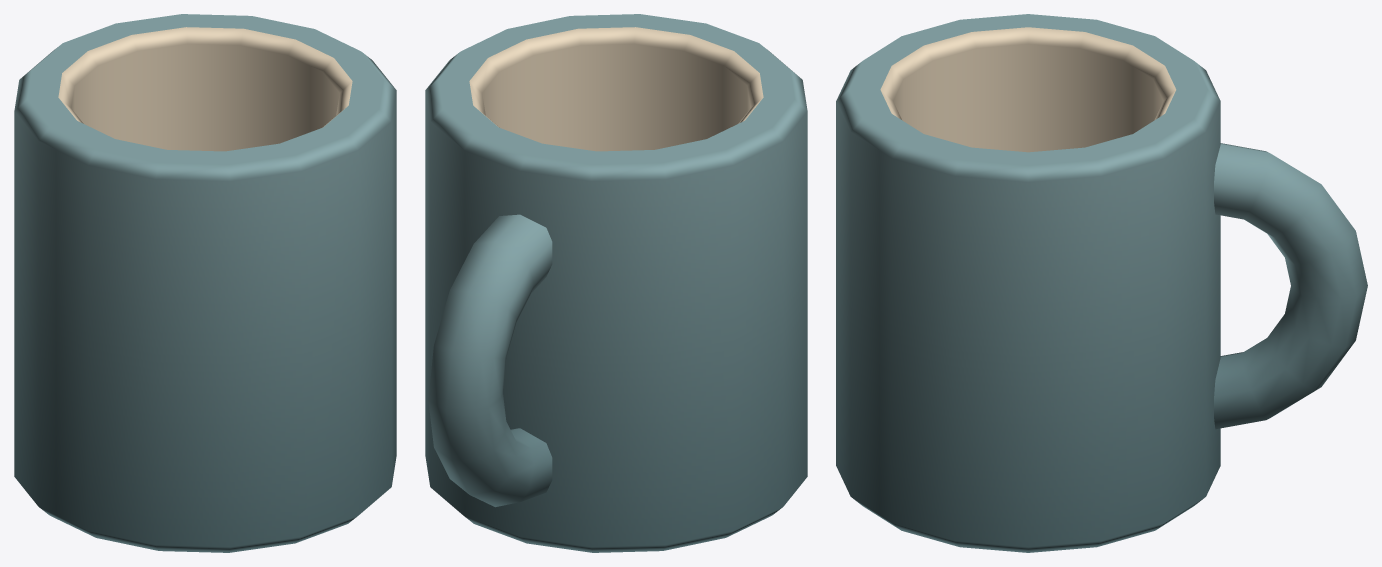
Rendered from SM_CozyShops_Cup_Mug.fbx.
3 views of the same model, side by side, from view 1: azimuth 30°, elevation 25°; view 2: azimuth 150°, elevation 25°; view 3: azimuth 270°, elevation 25° (orthographic).
Parts seen in each view (by area): view 1: SM_CozyShops_Cup_Mug; view 2: SM_CozyShops_Cup_Mug; view 3: SM_CozyShops_Cup_Mug.
Part boxes in pixels (left/top/right/bottom): SM_CozyShops_Cup_Mug: left=14, top=14, right=396, bottom=552; SM_CozyShops_Cup_Mug: left=425, top=14, right=807, bottom=552; SM_CozyShops_Cup_Mug: left=836, top=14, right=1367, bottom=552.
Bounding box in the file's own units: 0.09 × 0.1 × 0.1244.
